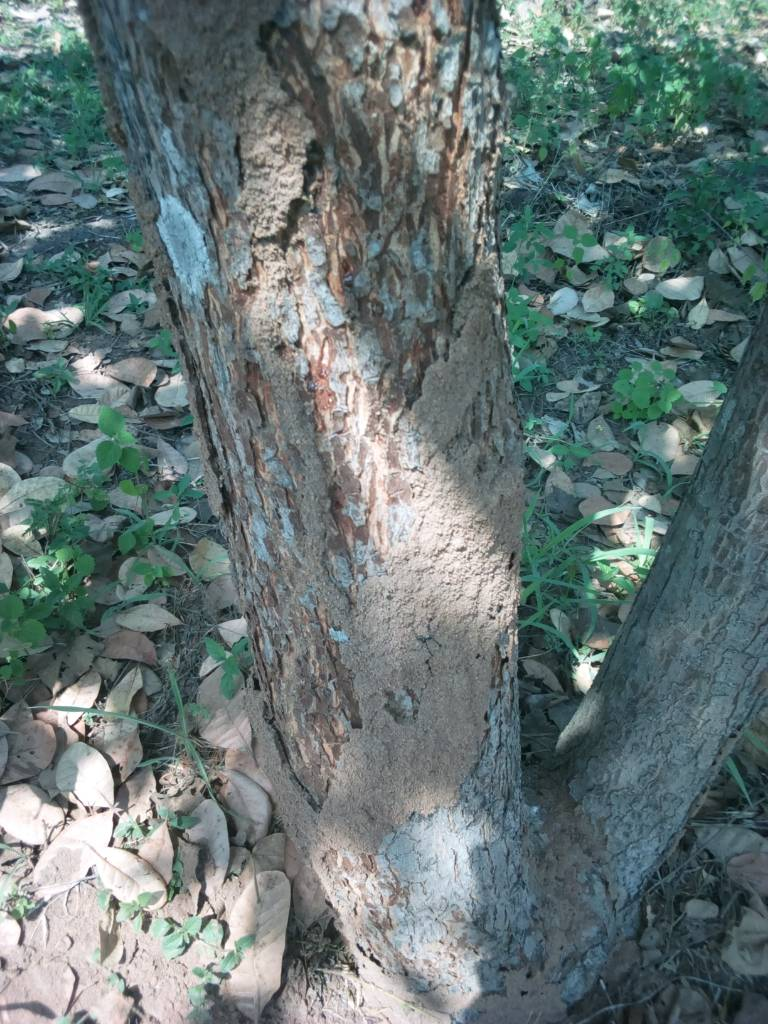Termites: (361, 303, 518, 1024), (199, 24, 369, 603)
